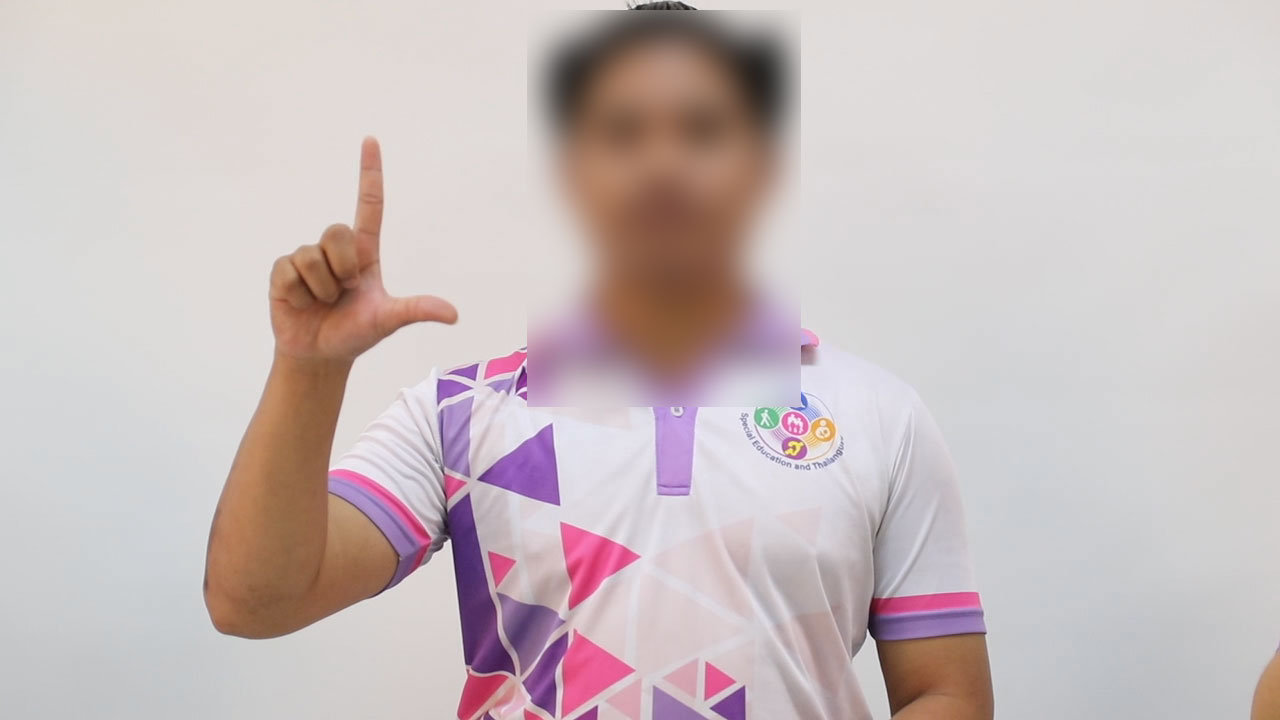lor: (251, 123, 473, 396)
